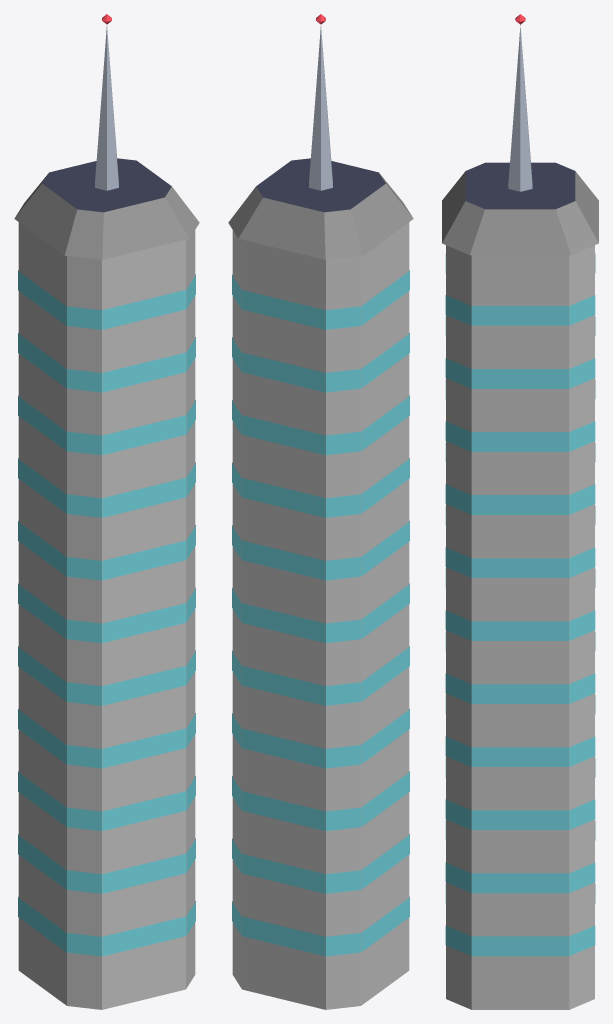
File: tower_chamfer.obj
3 views of the same model, side by side, from view 1: azimuth 30°, elevation 25°; view 2: azimuth 150°, elevation 25°; view 3: azimuth 270°, elevation 25° (orthographic).
Bounding box in the file's own units: 15.8 × 107 × 15.8.
